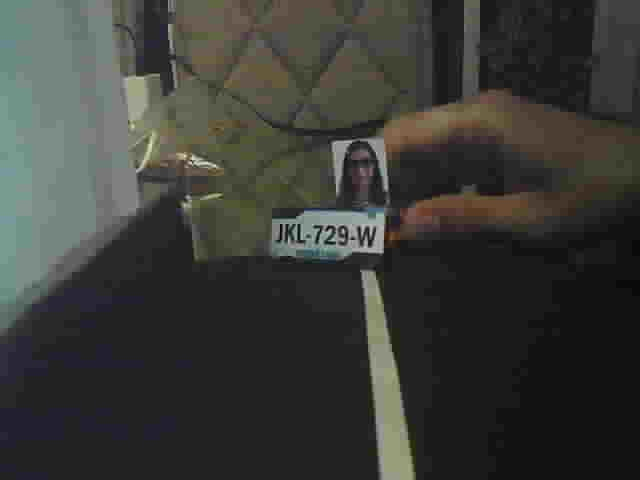PLACA: (270, 206, 386, 267)
ROSTRO: (338, 140, 385, 202)
